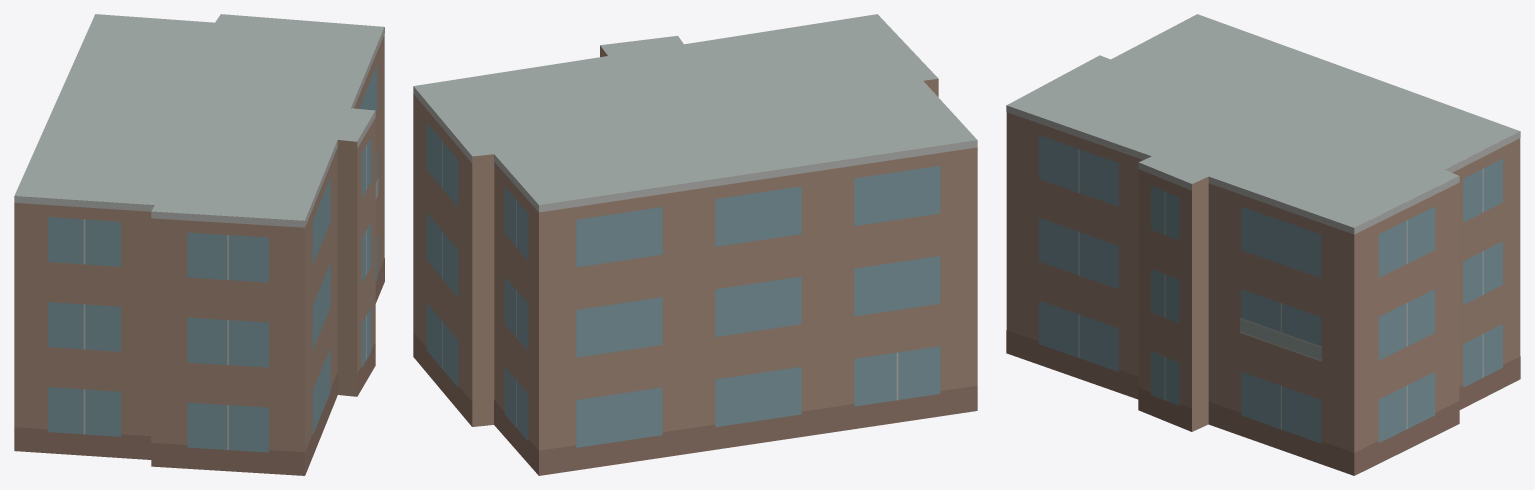
The model's file is survey-upis-32910898.glb.
The picture shows the model from 3 angles, left to right: view 1: azimuth 30°, elevation 25°; view 2: azimuth 150°, elevation 25°; view 3: azimuth 270°, elevation 25°; orthographic projection. The views are drawn at different scales.
Parts seen in each view (by area): view 1: survey-upis-32910898.tmp; view 2: survey-upis-32910898.tmp; view 3: survey-upis-32910898.tmp.
Boxes of the visible parts, bbox=[...] form: survey-upis-32910898.tmp: bbox=[14, 14, 384, 475]; survey-upis-32910898.tmp: bbox=[413, 14, 977, 475]; survey-upis-32910898.tmp: bbox=[1006, 14, 1520, 475].
Size of the model in its own units: 16.85 by 9.1 by 17.11.
